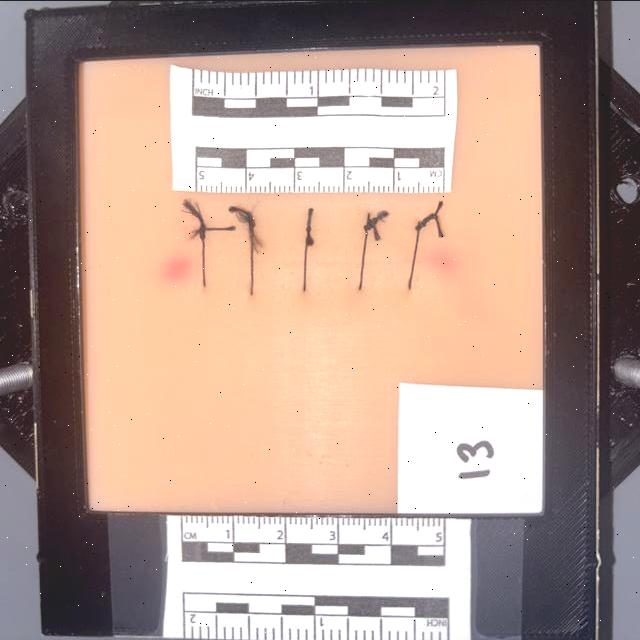incision_line: (173, 248, 444, 274)
scale_marker: (244, 165, 292, 199)
suture_d: (302, 242, 360, 278), (357, 245, 414, 278), (250, 247, 304, 279), (200, 250, 248, 274)
suture_l: (403, 261, 419, 291), (355, 263, 368, 290), (248, 262, 256, 296), (302, 264, 310, 294), (200, 262, 208, 288)
suture_r: (408, 228, 425, 261), (357, 230, 371, 263), (248, 227, 257, 262), (199, 230, 208, 262), (302, 231, 310, 263)
